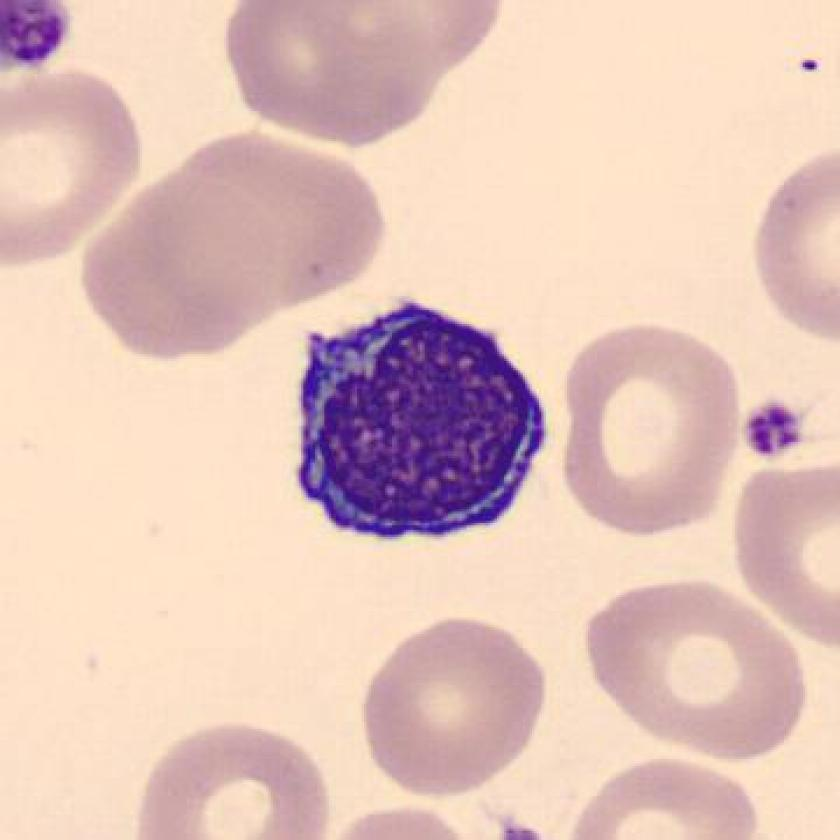lymphocyte: (276, 279, 561, 570)
platelets: (1, 1, 76, 74), (733, 397, 813, 465)
